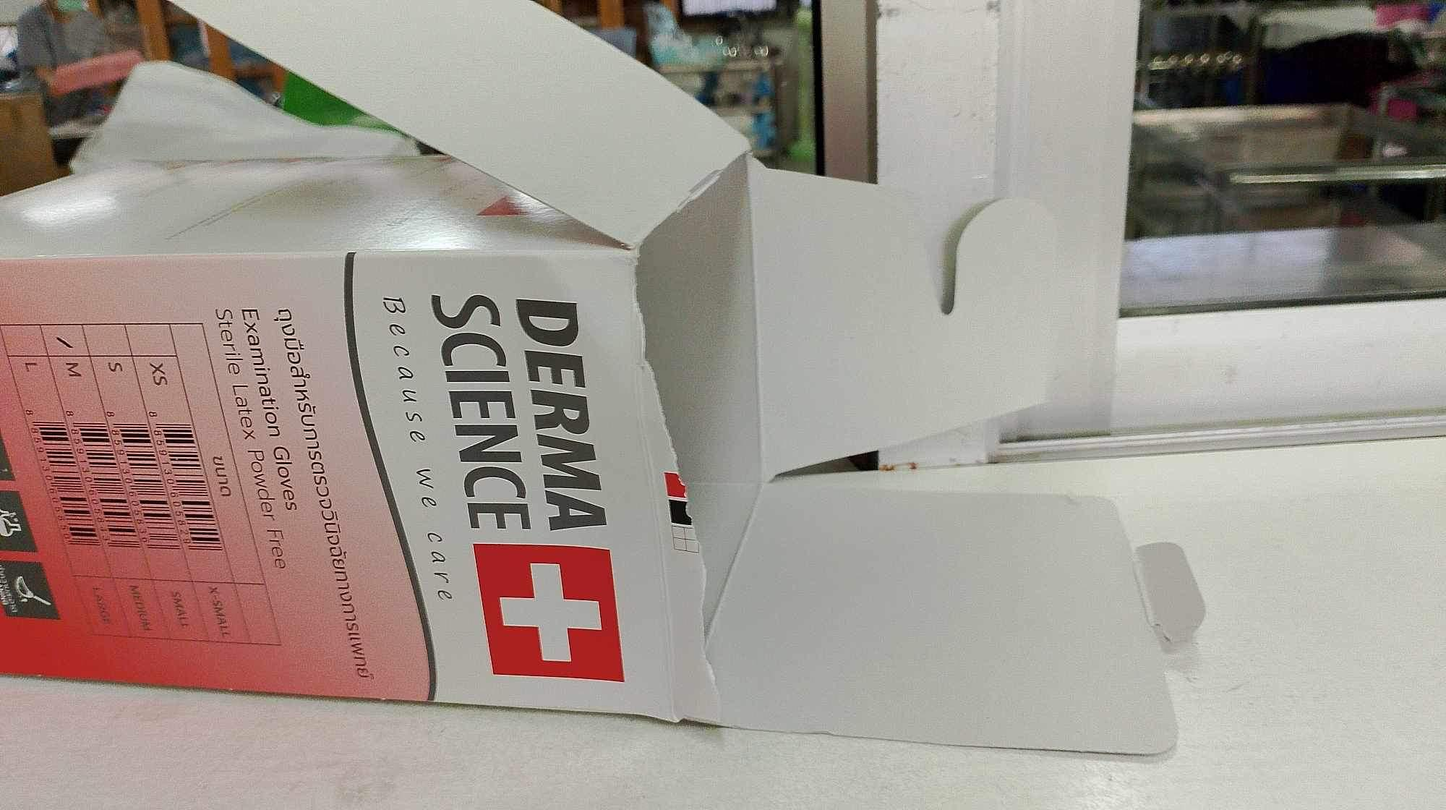Pathological: (3, 3, 1186, 759)
Sharps: (1131, 539, 1207, 645)
